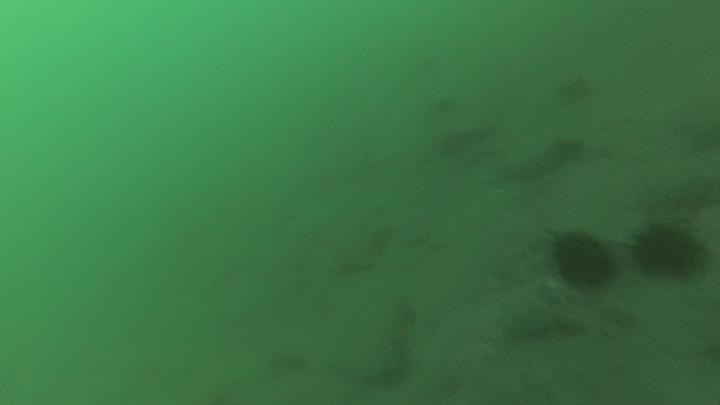echinus: (638, 228, 700, 278), (554, 234, 613, 286), (553, 140, 581, 162), (567, 79, 592, 101)
